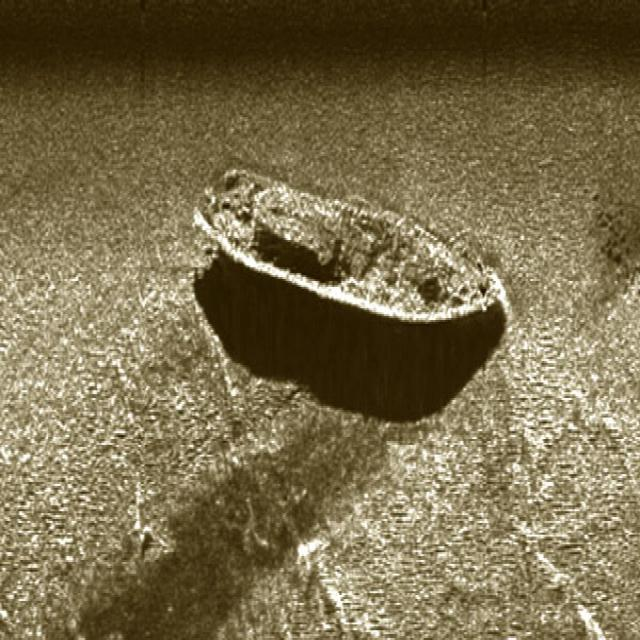ship: (194, 168, 510, 330)
